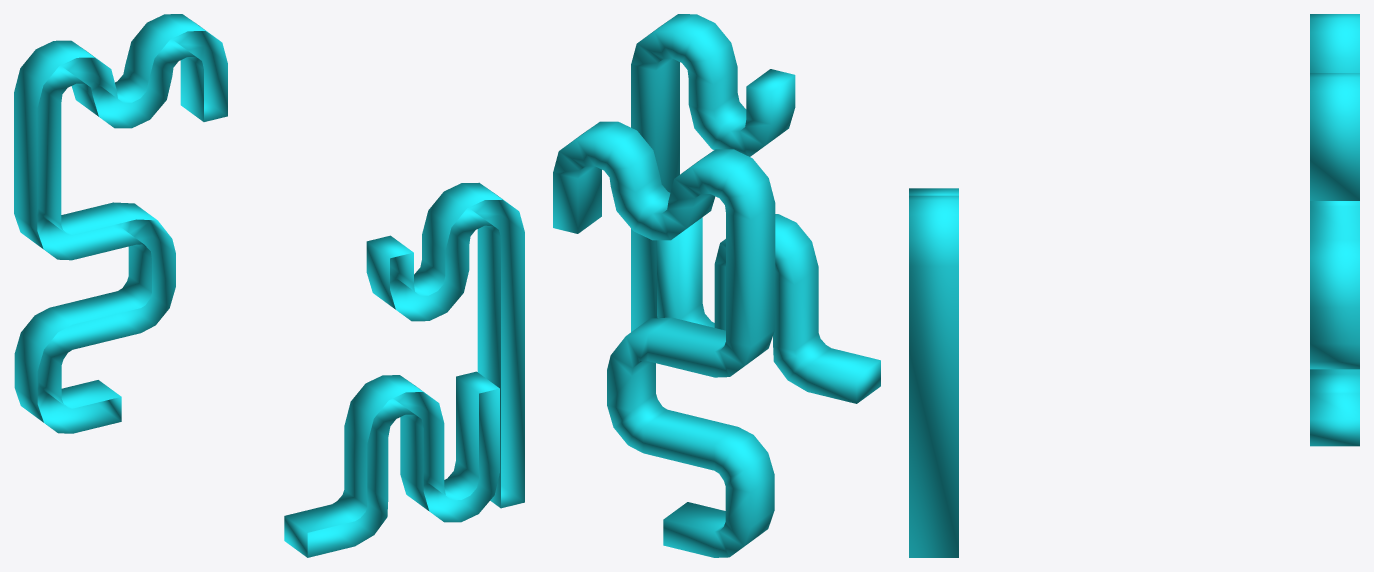
Rendered from EarthStage_Wall.fbx.
The picture shows the model from 3 angles, left to right: view 1: azimuth 30°, elevation 25°; view 2: azimuth 150°, elevation 25°; view 3: azimuth 270°, elevation 25°; orthographic projection. The views are drawn at different scales.
Visible parts, largest first — view 1: 平面, 平面.001; view 2: 平面.001, 平面; view 3: 平面.001, 平面.
Boxes of the visible parts, x1,y1,x2,y2 form: 平面: (284,182,524,557); 平面.001: (14,14,227,433); 平面.001: (553,121,775,557); 平面: (631,14,880,403); 平面.001: (1310,14,1359,446); 平面: (909,188,958,557).
Size of the model in its own units: 74.97 by 89.51 by 90.1.
